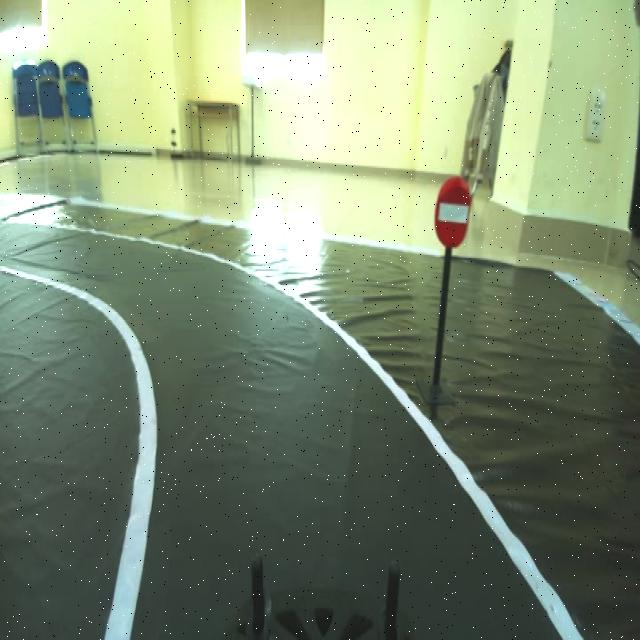no_entry: (424, 165, 481, 261)
